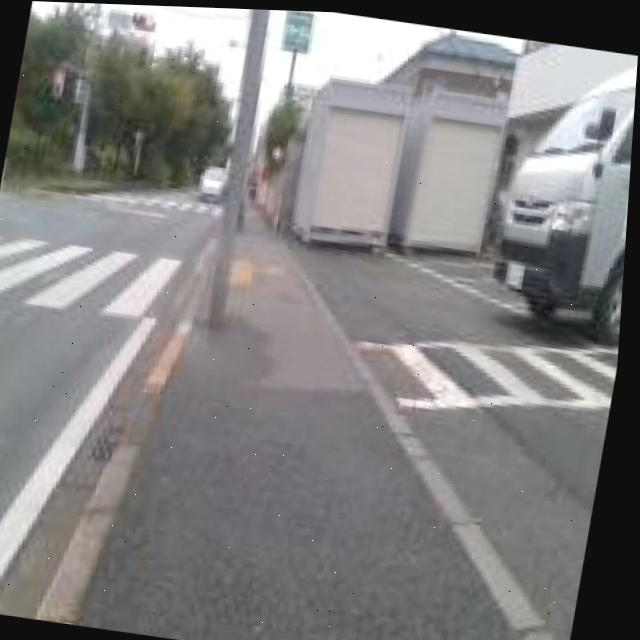Automobile: (497, 60, 638, 338), (200, 164, 228, 199)
Obstacle: (294, 77, 505, 246), (211, 7, 270, 324)
Road: (0, 191, 221, 618)
Sidewalk: (88, 208, 531, 640)
